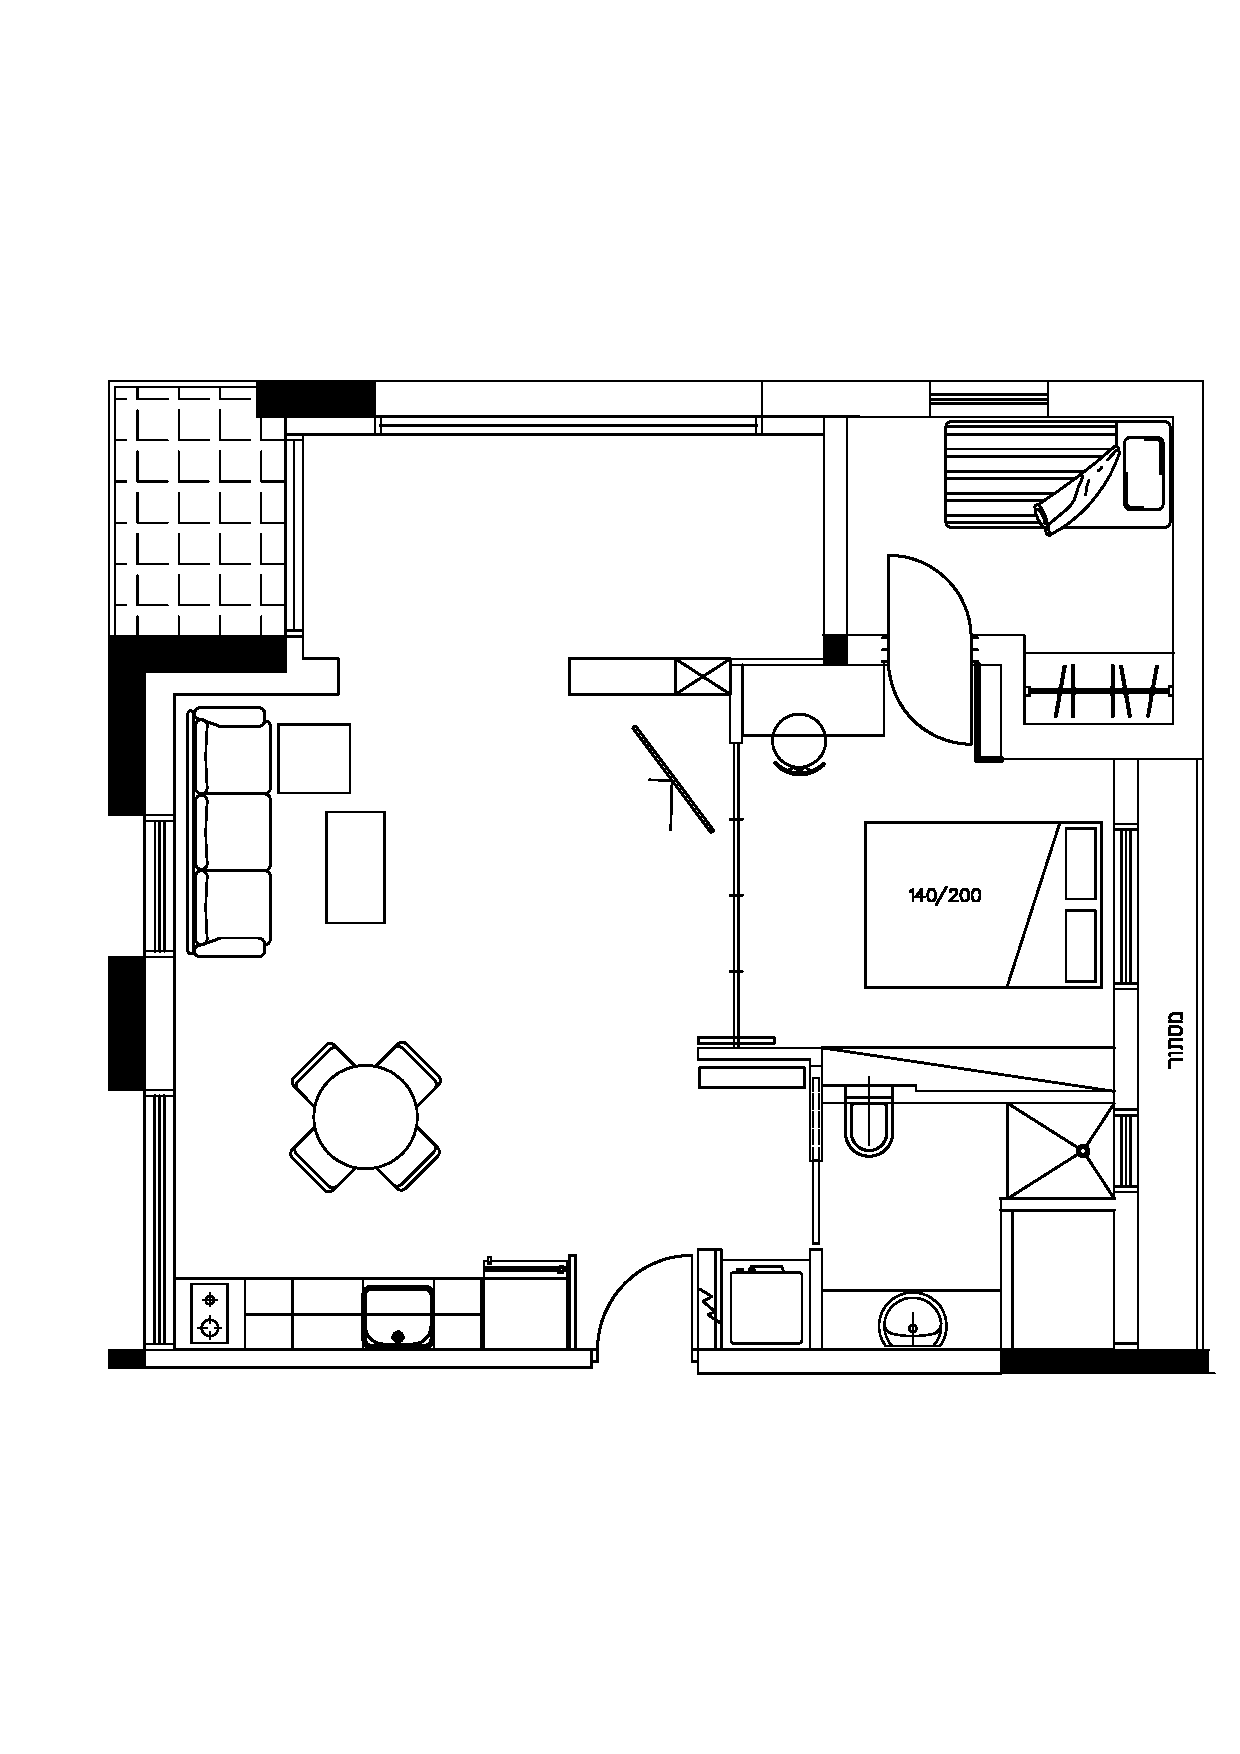door: (584, 1232, 699, 1337), (874, 527, 994, 621)
wall: (998, 1347, 1209, 1376), (111, 635, 140, 815)
window: (370, 415, 756, 435)
